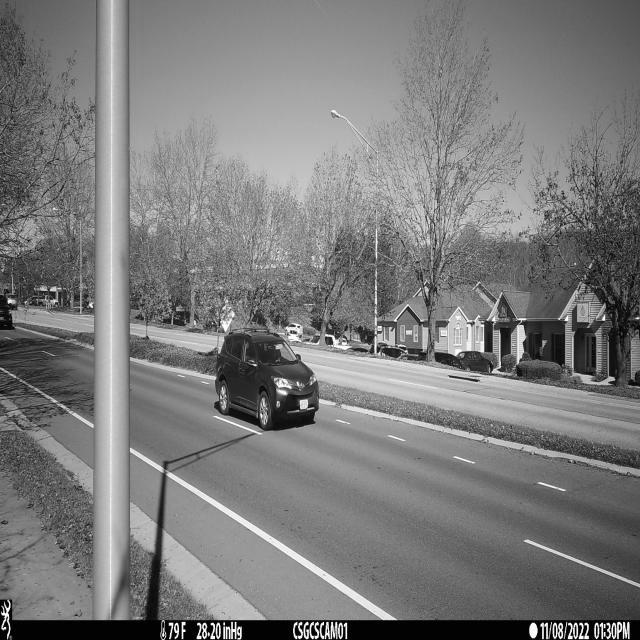SUV: (214, 327, 320, 429)
